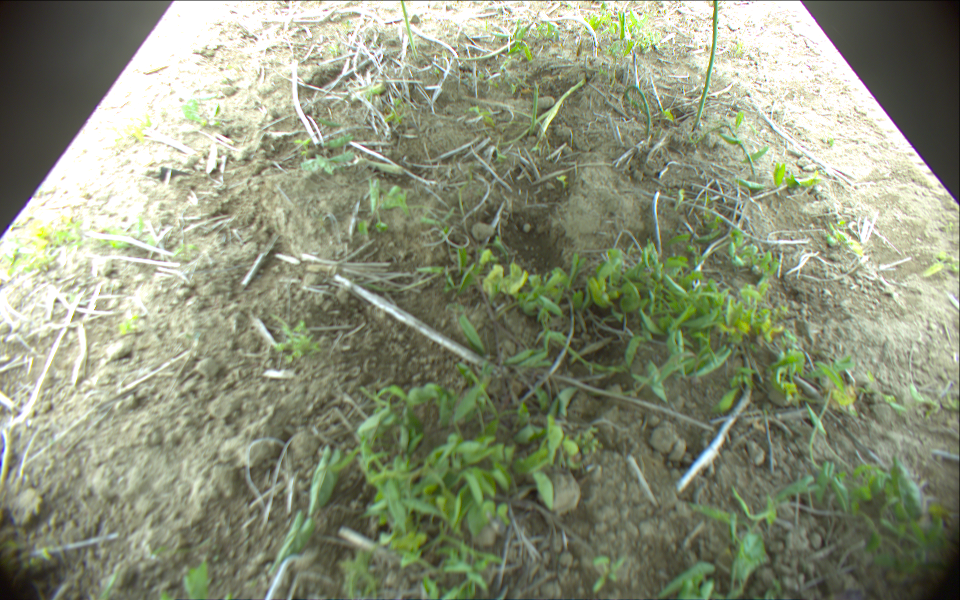aspa: (692, 1, 719, 131), (540, 79, 589, 140), (621, 84, 652, 136), (399, 1, 420, 61), (530, 79, 539, 142)
